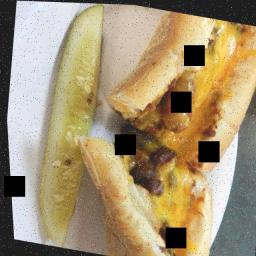hotdog: (148, 62, 206, 136)
